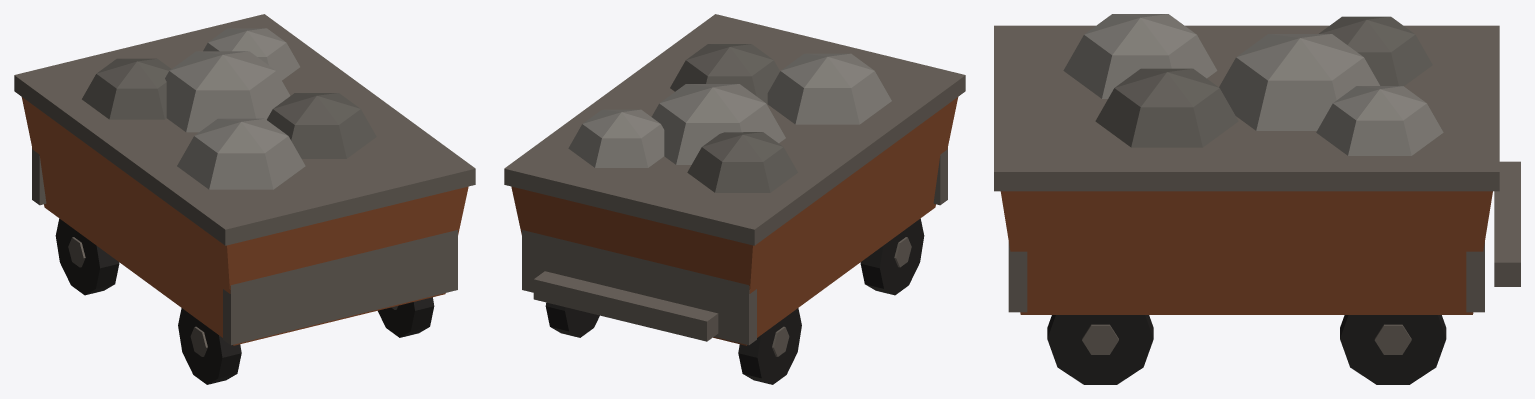
Rendered from p_minecart.glb.
3 views of the same model, side by side, from view 1: azimuth 30°, elevation 25°; view 2: azimuth 150°, elevation 25°; view 3: azimuth 270°, elevation 25° (orthographic). The views are drawn at different scales.
Parts seen in each view (by area): view 1: minecart; view 2: minecart; view 3: minecart.
Part boxes in pixels (bbox=[...]): minecart: bbox=[14, 14, 475, 384]; minecart: bbox=[504, 14, 965, 384]; minecart: bbox=[994, 14, 1520, 384].
Bounding box in the file's own units: 1.3 × 1.18 × 1.98.
